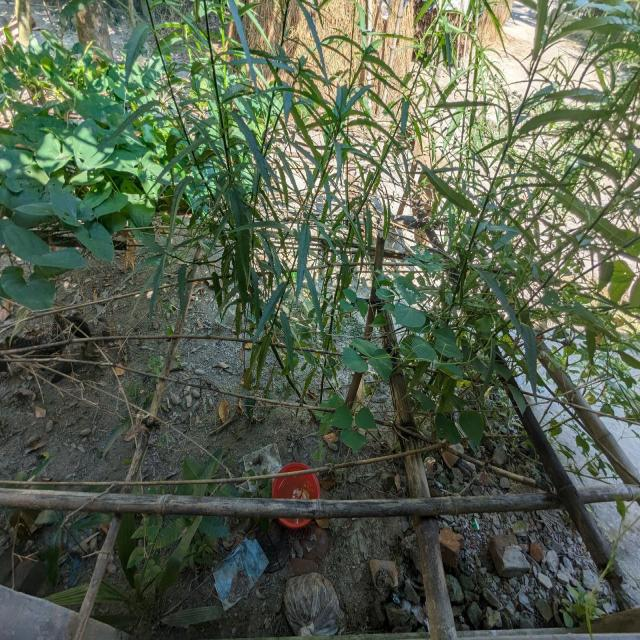Breeding Place: (206, 523, 272, 613), (266, 460, 340, 536), (236, 441, 292, 496)
